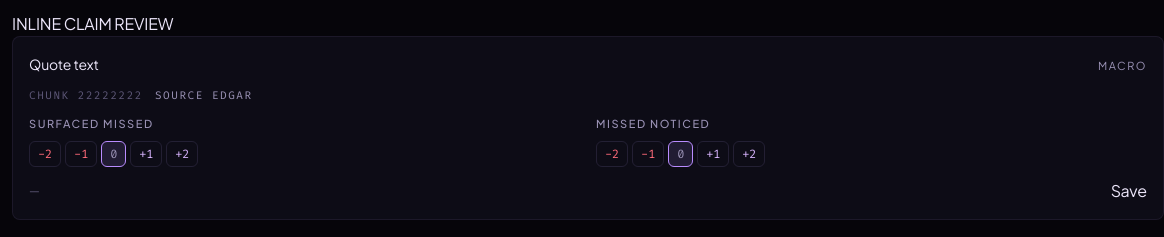
InlineClaimReview › rejects save when reviewer is empty
Click the button "Save".
click(1129, 191)  # box [1111,179,1147,203]
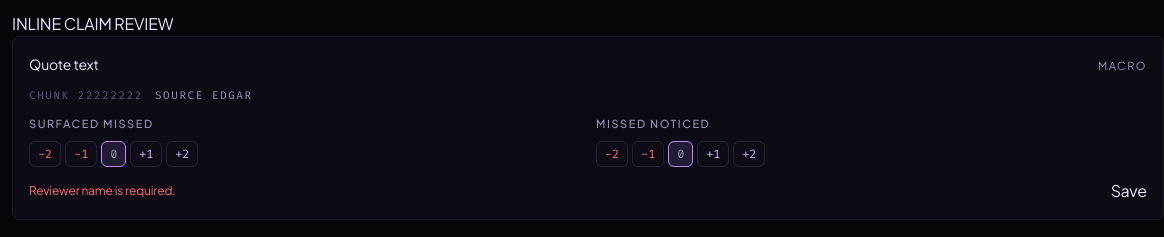
Now the message reads "Reviewer name is required.", box [29,183,176,198]
